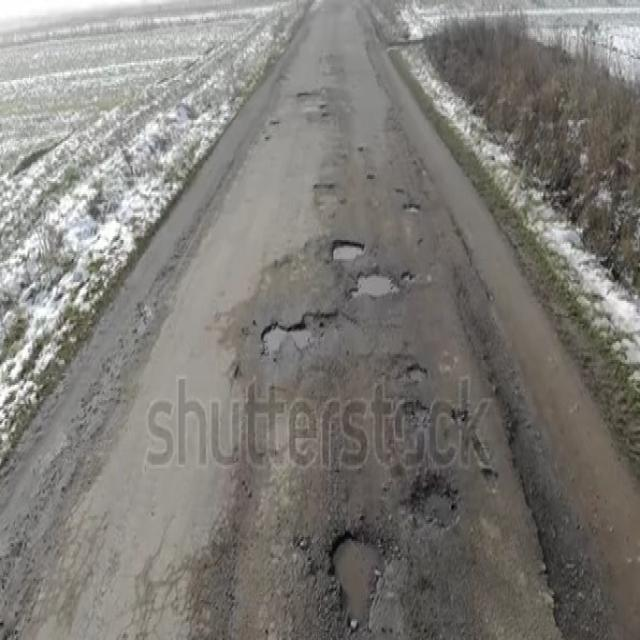pothole: (395, 375, 489, 466), (261, 310, 339, 356), (351, 275, 398, 296), (331, 239, 365, 262)
